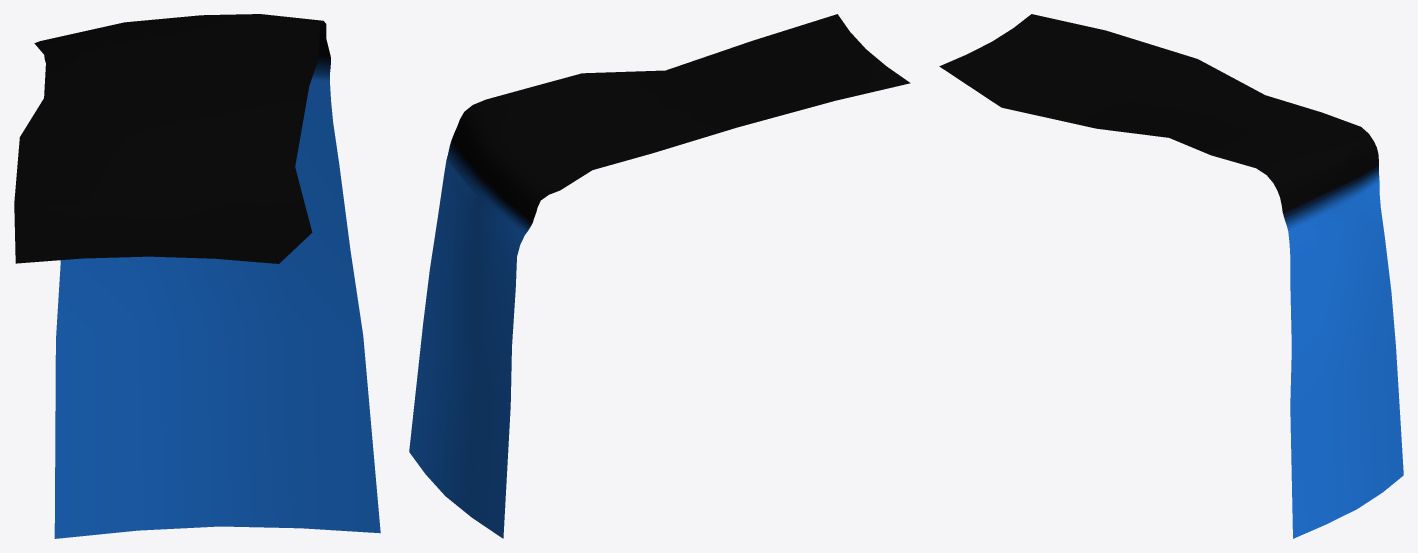
The model's file is SM_EastLands_DemoSceneWaterfall_03.fbx.
3 renders of one model, left to right at view 1: azimuth 30°, elevation 25°; view 2: azimuth 150°, elevation 25°; view 3: azimuth 270°, elevation 25°, orthographic. The views are drawn at different scales.
Parts seen in each view (by area): view 1: SM_FarEast_DemoSceneWaterfall_03; view 2: SM_FarEast_DemoSceneWaterfall_03; view 3: SM_FarEast_DemoSceneWaterfall_03.
Part boxes in pixels (x1,y1,x2,y2): SM_FarEast_DemoSceneWaterfall_03: (14, 14, 380, 538); SM_FarEast_DemoSceneWaterfall_03: (409, 14, 910, 538); SM_FarEast_DemoSceneWaterfall_03: (939, 14, 1403, 538).
Bounding box in the file's own units: 66.68 × 64.79 × 75.04.
